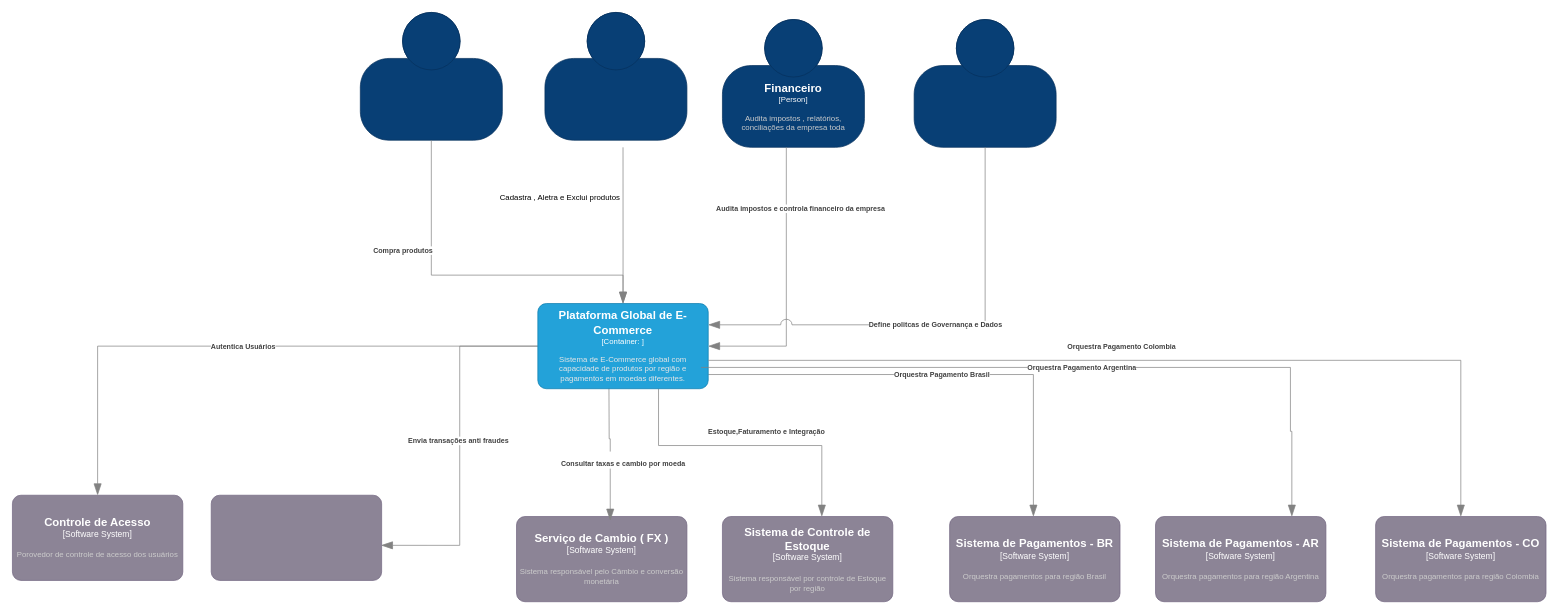
Some shapes in this 1558 by 614 pixel diagram are drawn without their labels. The shapes that lost their labels are listed below. From the top down, each one's centre as x and y in pixels, then its label:
At point 431,76: "Cliente [Person] Compra produtos por catálogo de sua região".
At point 615,76: "BackOffice Regional [Person] Administra o catálogo de produtos de sua região".
At point 984,83: "Segurança [Person] Governança de Dados".
At point 296,537: "Anti Fraude [Software System] Sistema de Anti Fraude".
